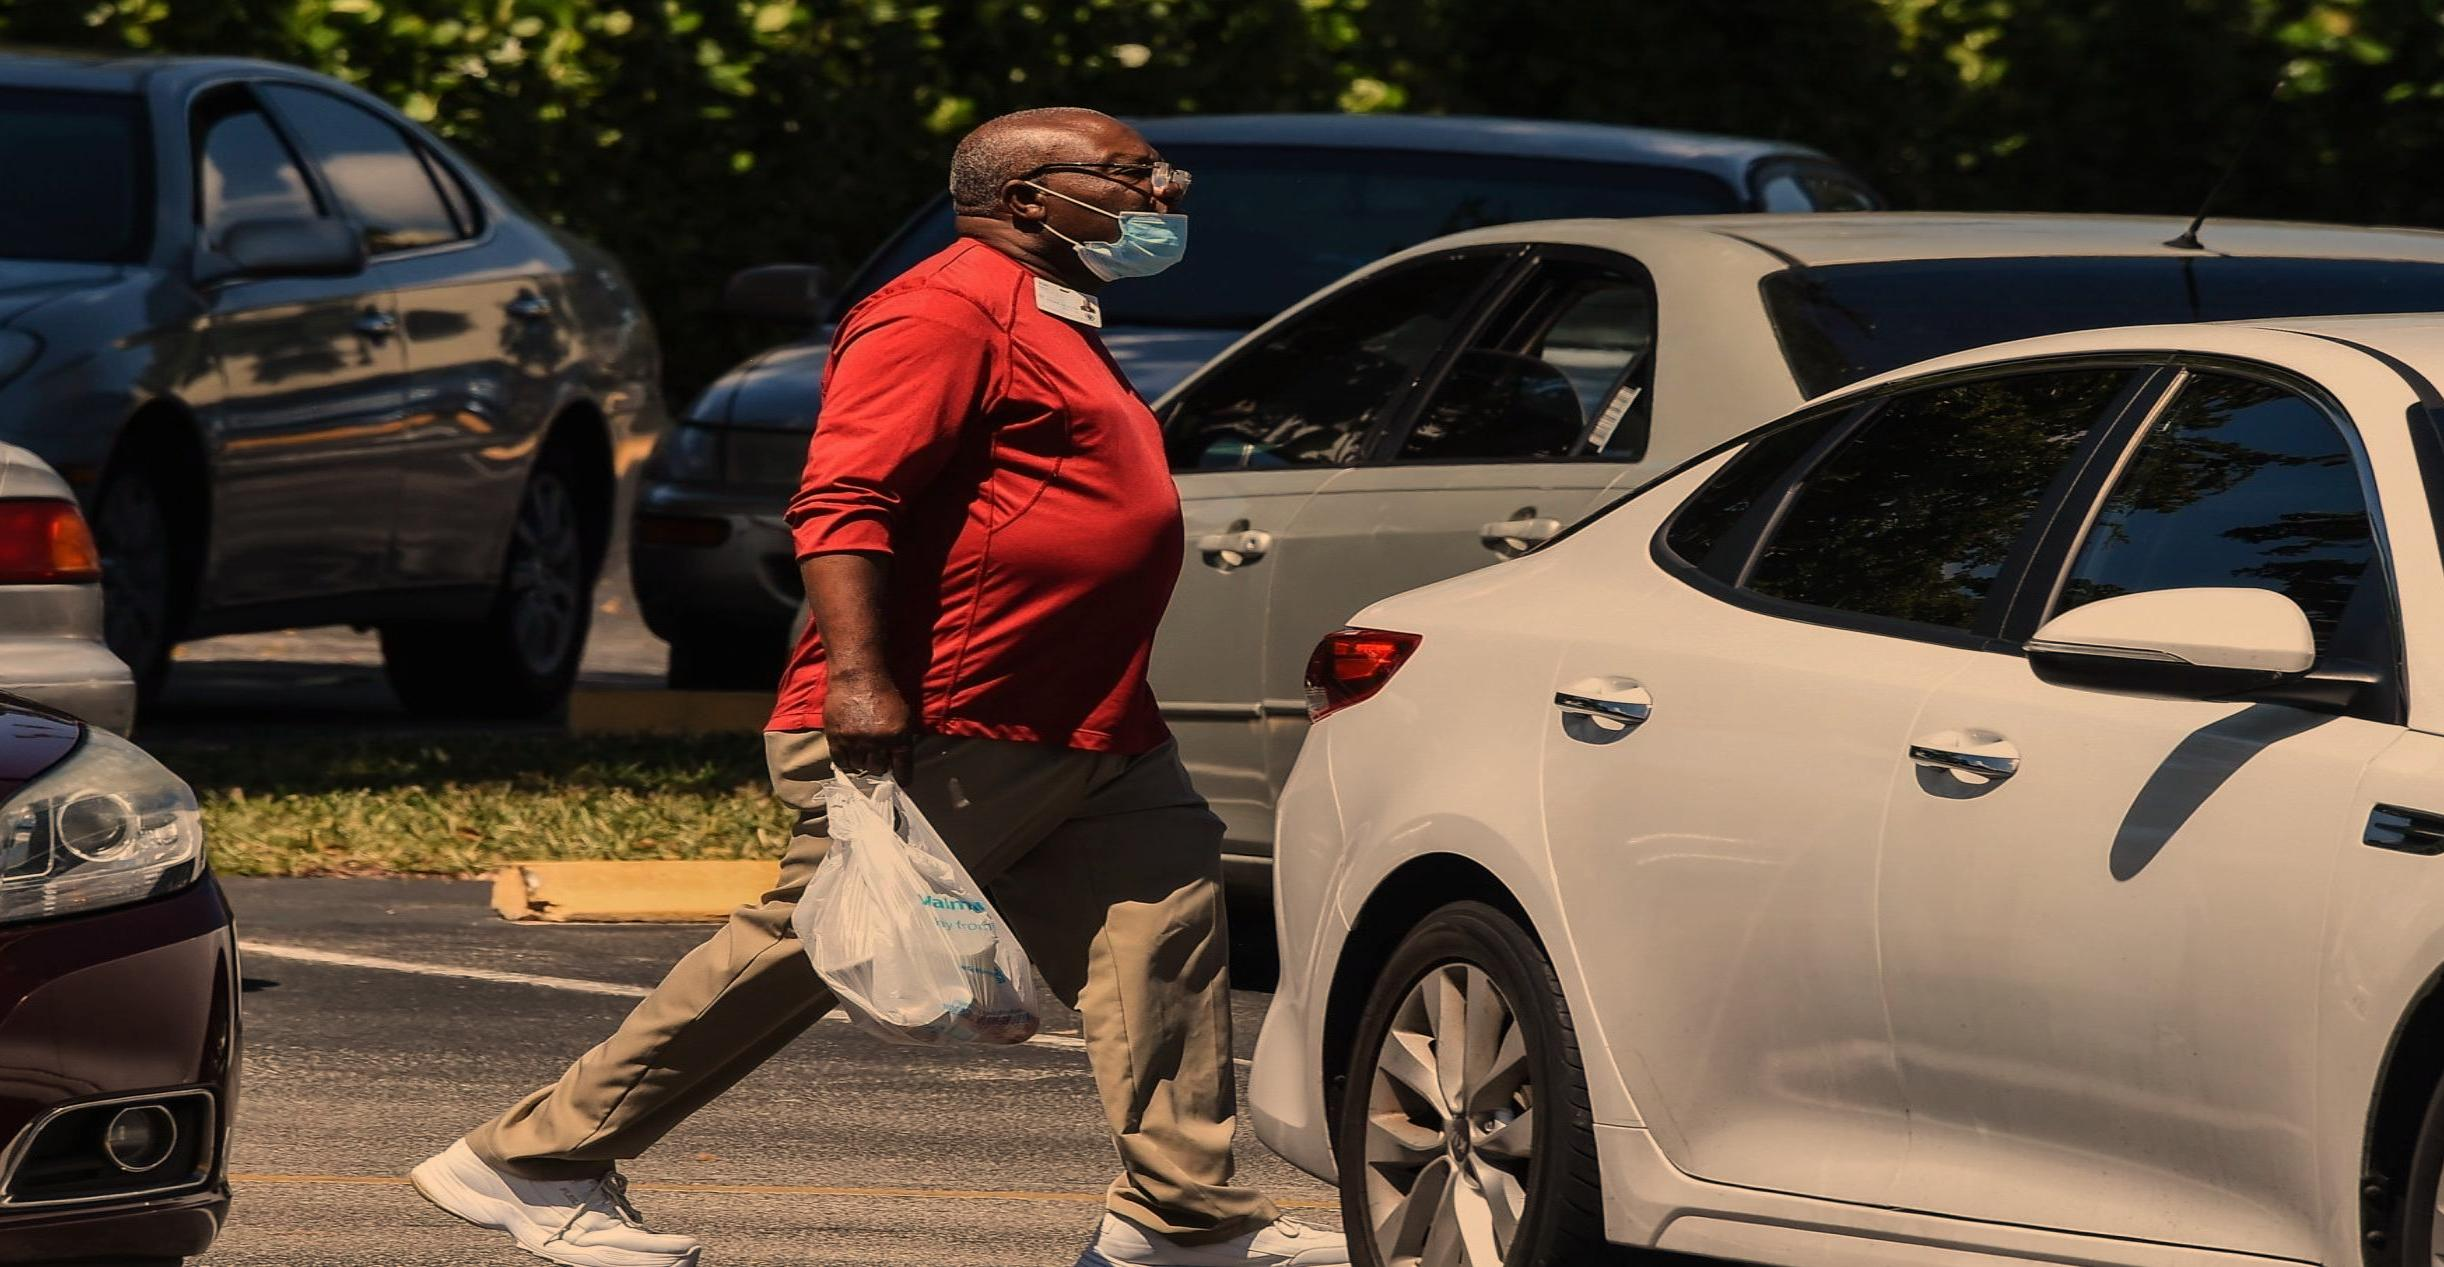mask_weared_incorrect: (979, 98, 1240, 318), (932, 106, 1203, 295)
